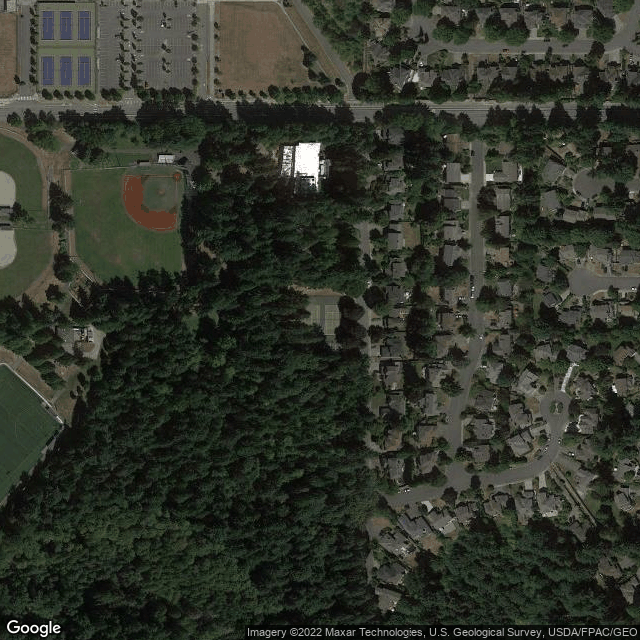Court: (302, 303, 318, 337), (324, 304, 340, 335)
